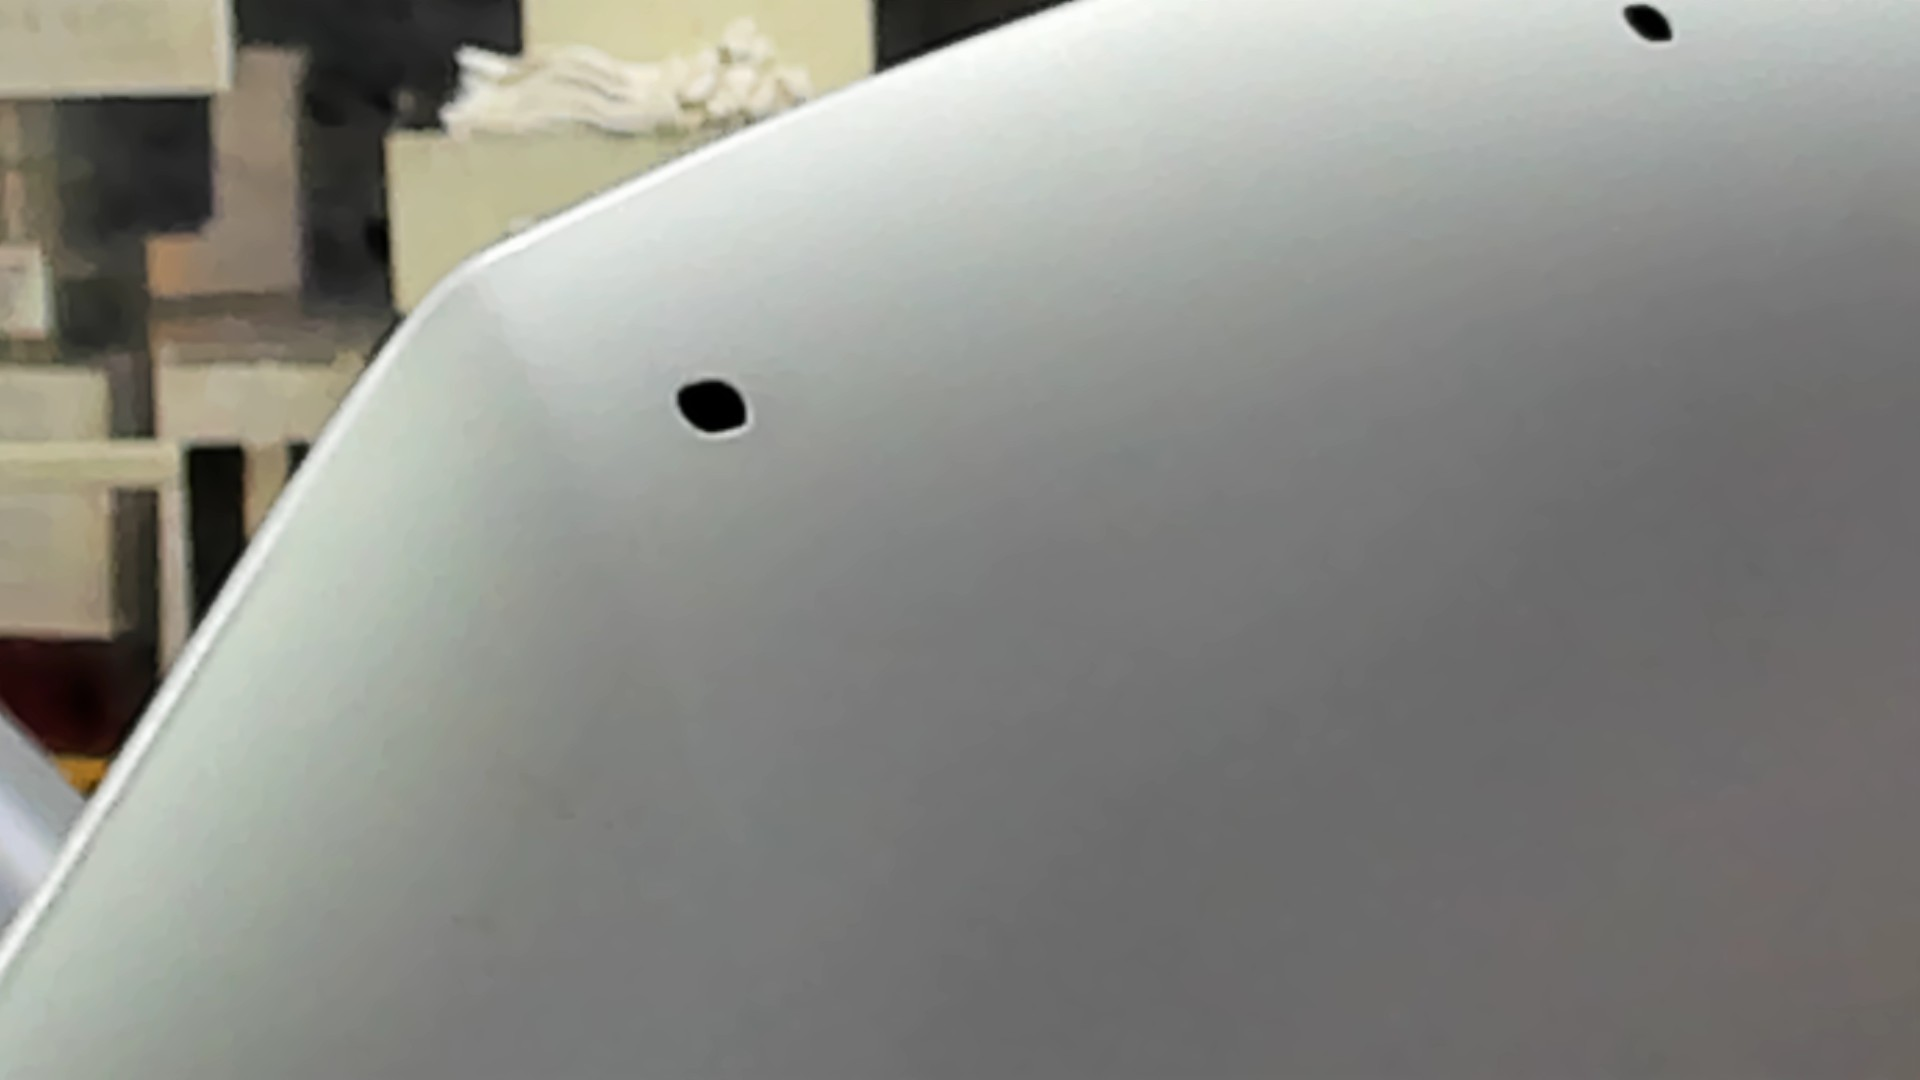amorfo: (670, 371, 761, 438), (1618, 4, 1680, 49)
